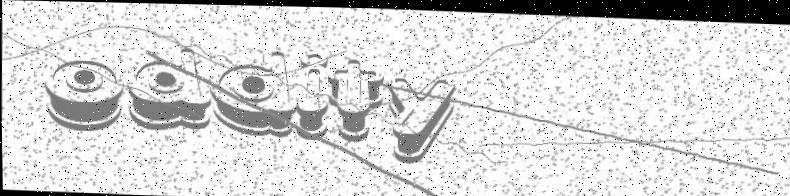d: (210, 46, 296, 137), (124, 44, 212, 131)
i: (293, 47, 331, 139)
o: (40, 56, 126, 135)
t: (322, 55, 387, 142)
y: (382, 73, 463, 165)
